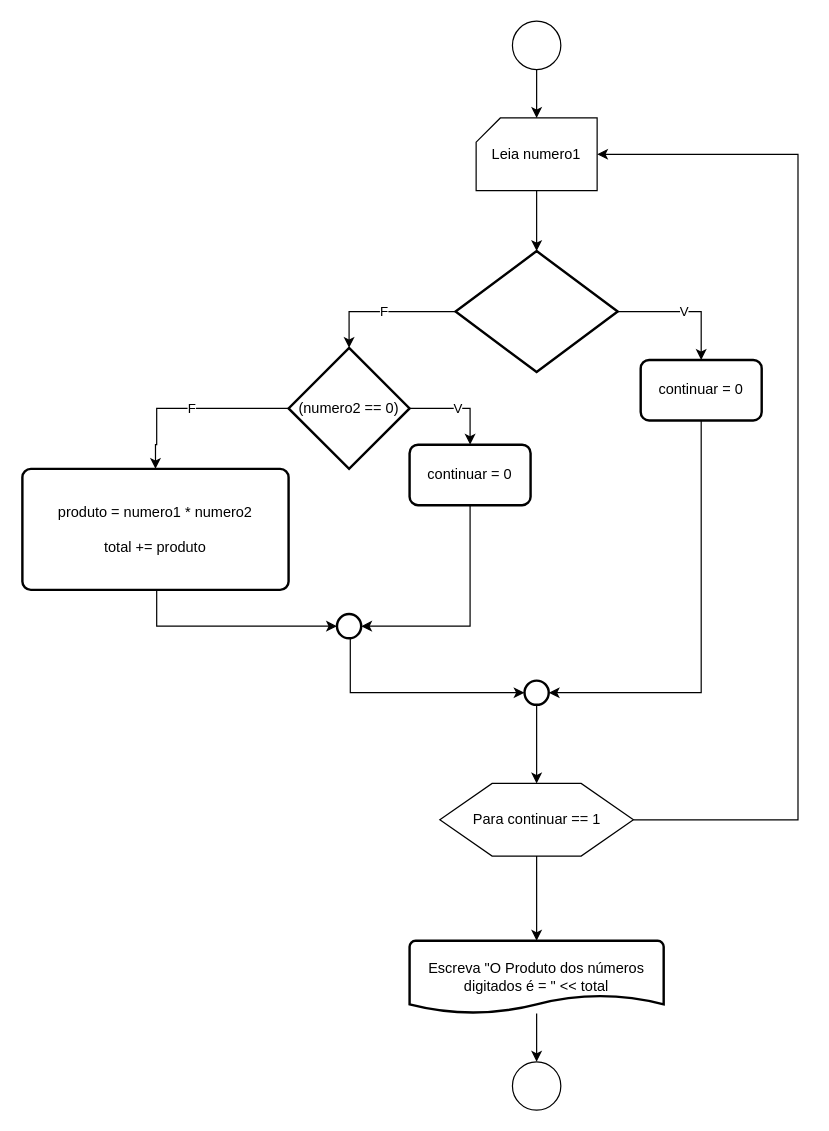
This 829x1131 diagram has some shape labels left out. Each missing label, with the box of its shape:
(numero1 == 0): (454, 249, 618, 373)
Fim: (511, 1061, 561, 1110)
Início: (511, 20, 561, 70)
